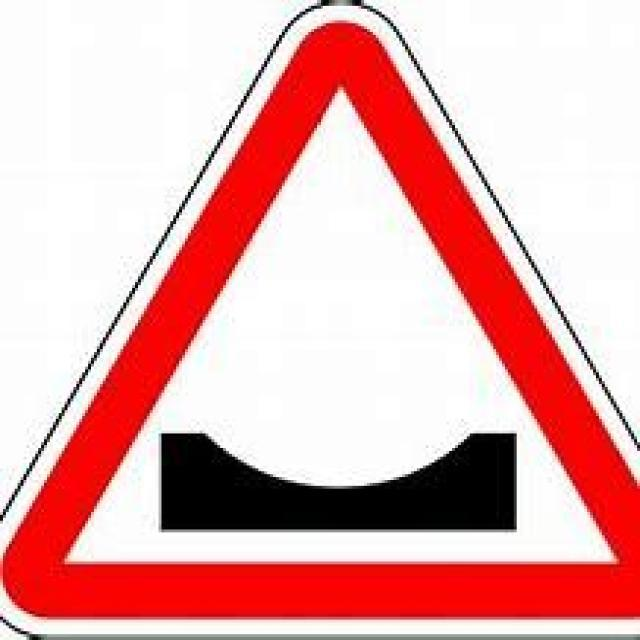dangerous dip: (12, 16, 624, 594)
